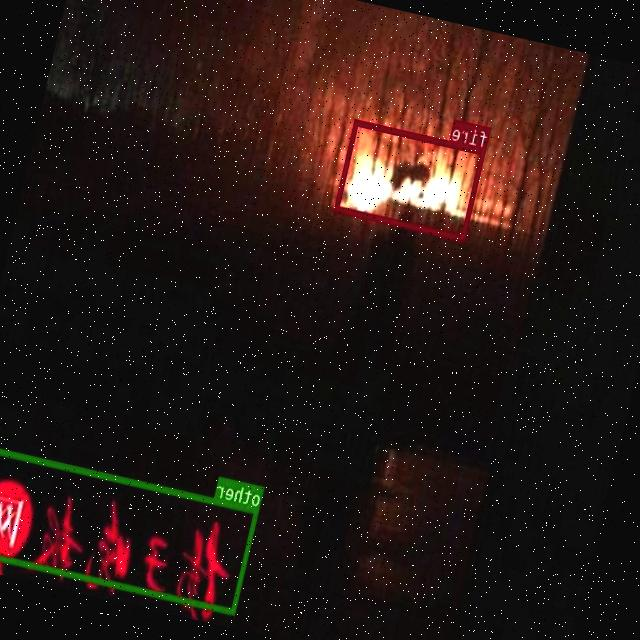fire: (334, 117, 486, 240)
